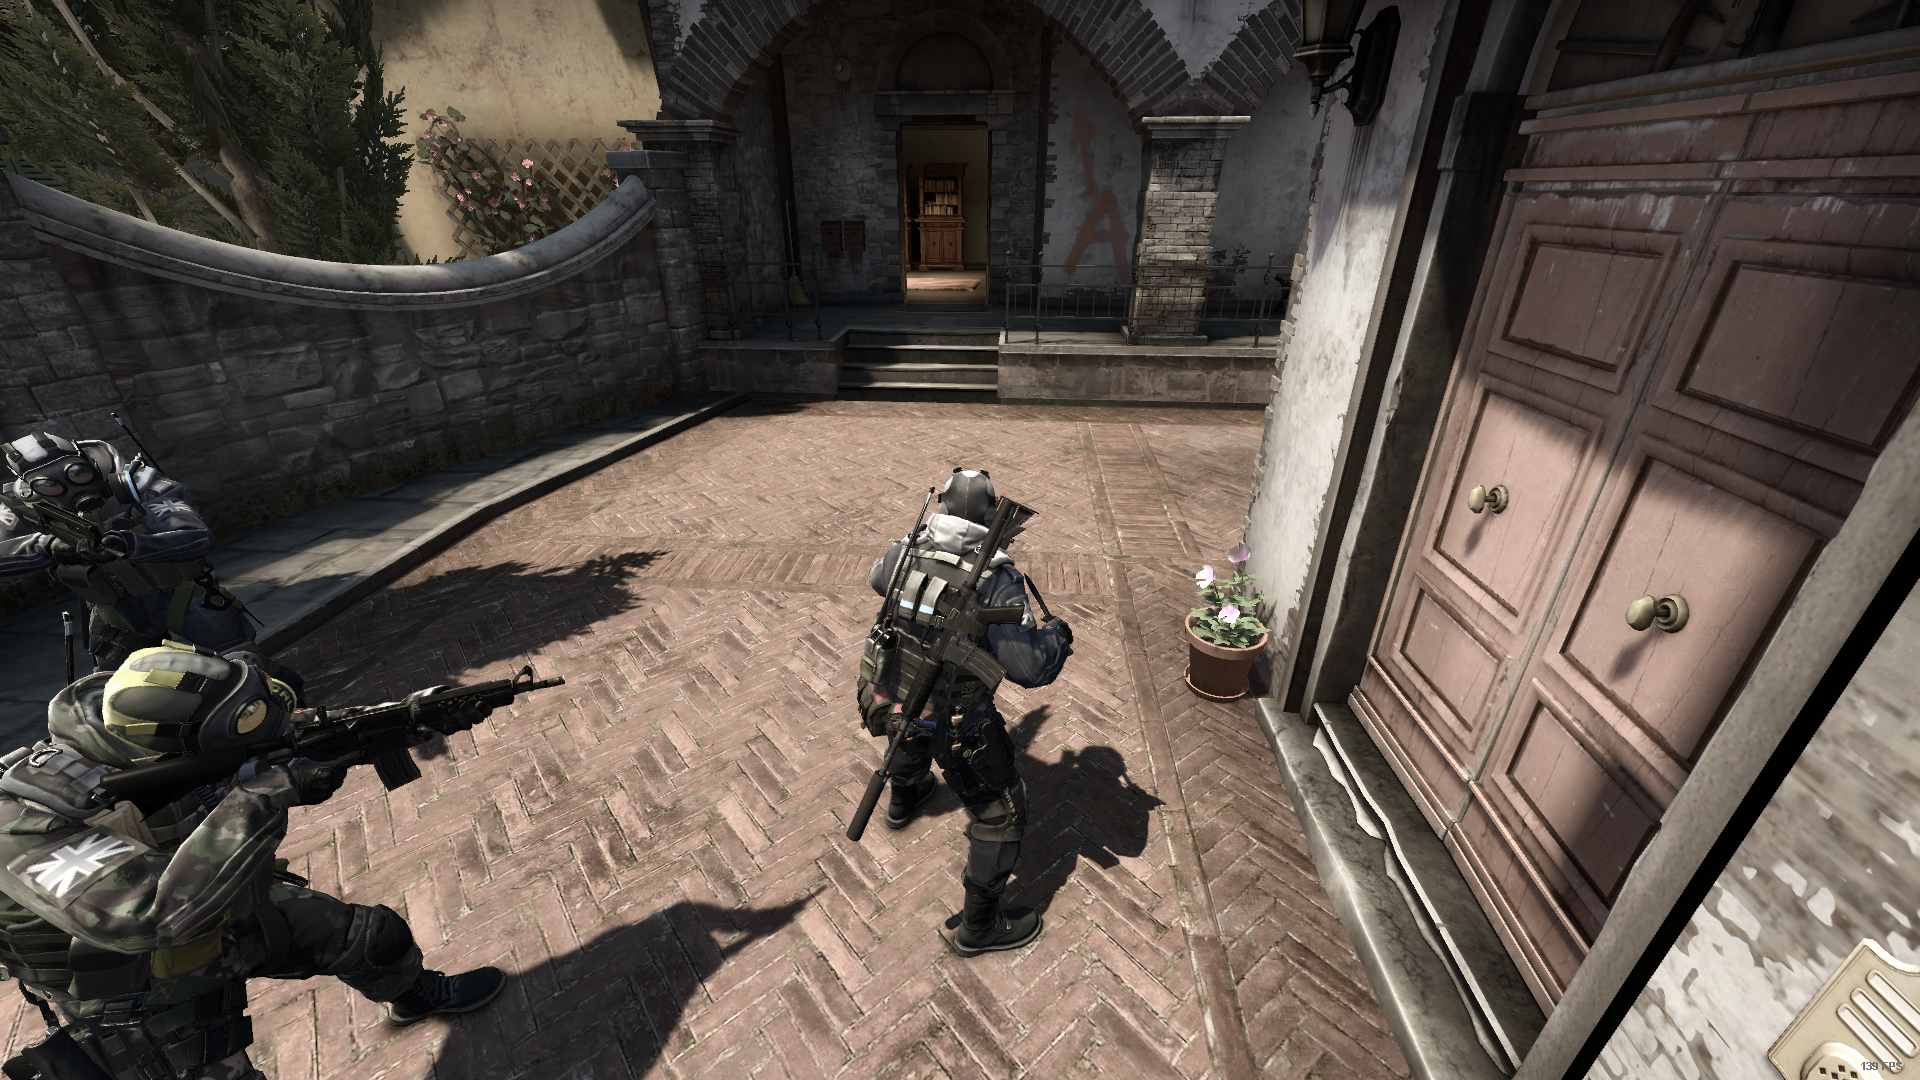ct: (836, 459, 1079, 965), (7, 415, 244, 651)
